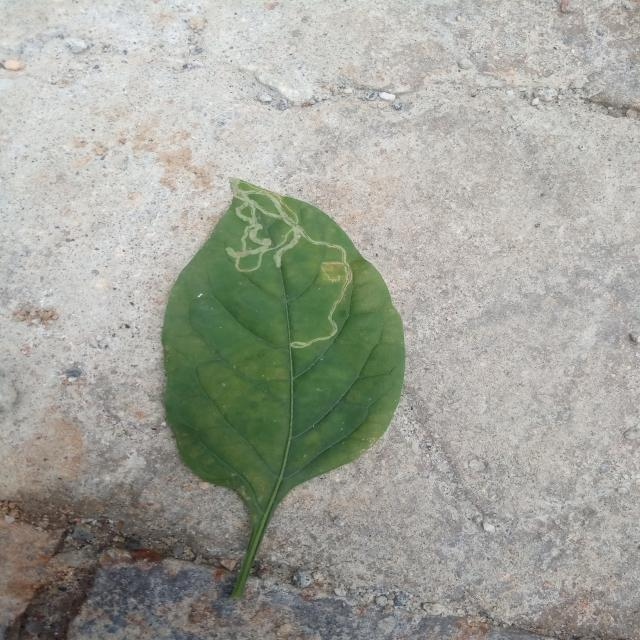ganike: (162, 179, 405, 599)
